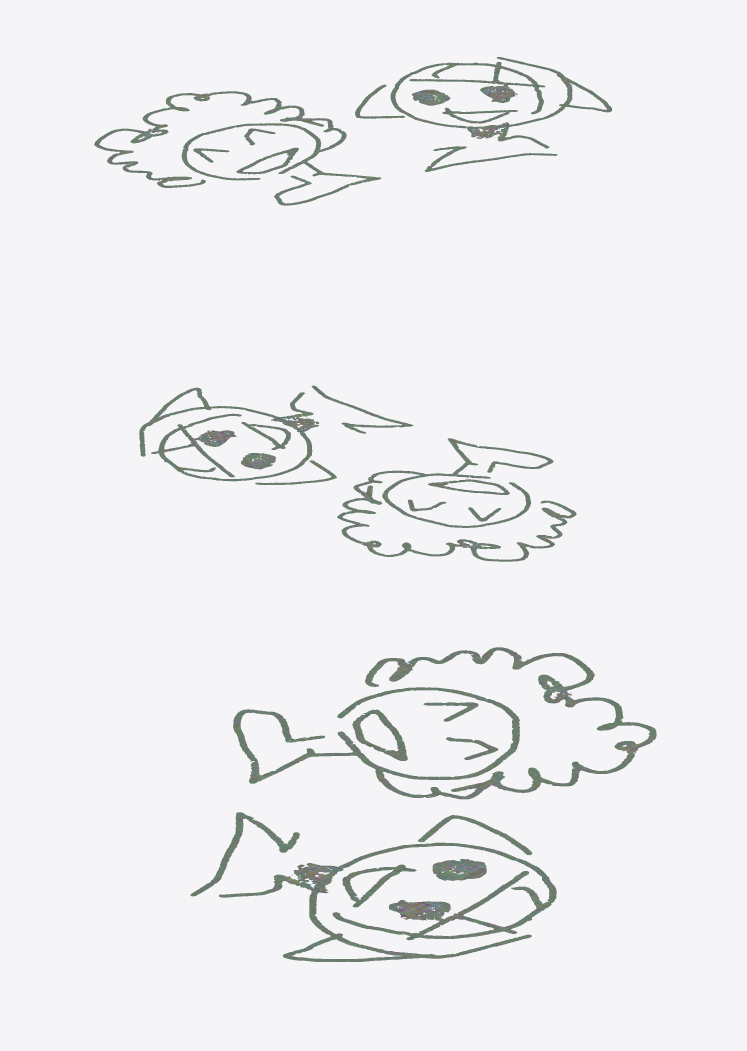
The model's file is DecaleF.FBX.
3 renders of one model, top to bottom at view 1: azimuth 30°, elevation 25°; view 2: azimuth 150°, elevation 25°; view 3: azimuth 270°, elevation 25°, orthographic. The views are drawn at different scales.
Visible parts, largest first — view 1: Object010; view 2: Object010; view 3: Object010.
Boxes of the visible parts, box(x1,y1,x2,y2) form: Object010: box(94, 57, 611, 205); Object010: box(139, 385, 576, 561); Object010: box(190, 647, 656, 961).
Size of the model in its own units: 2.57 by 1.54e-07 by 1.95.
